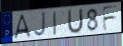8: (86, 8, 100, 32)
A: (13, 14, 32, 41)
F: (101, 4, 119, 33)
I: (52, 10, 57, 37)
J: (33, 11, 47, 38)
U: (67, 7, 85, 36)
